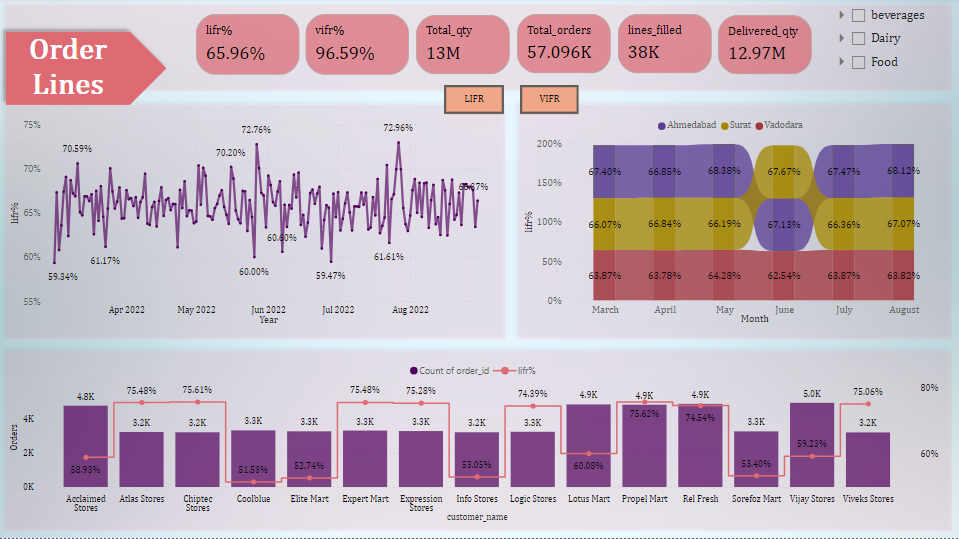

The dashboard page shown, as its layout file describes it:
{"tool":"powerbi","page":{"name":"Page 4","canvas":[1280,720],"ordinal":3},"visuals":[{"type":"shape","box":[0,0,1280,133.3],"z":0},{"type":"shape","box":[684,133.3,596,330.7],"z":1000},{"type":"shape","box":[0,133.3,684,330.7],"z":2000},{"type":"shape","box":[0,461.3,1280,258.7],"z":3000},{"type":"lineChart","fields":{"Category":["dim_date.date.Variation.Date Hierarchy.Year","dim_date.date.Variation.Date Hierarchy.Quarter","dim_date.date.Variation.Date Hierarchy.Month","dim_date.date.Variation.Date Hierarchy.Day"],"Y":["key_measures.lifr%"]},"box":[9.3,154.7,665.3,286.7],"z":4000},{"type":"actionButton","box":[694.9,115.6,78.5,38.5],"z":5000},{"type":"actionButton","box":[593.6,115.6,79.9,38.5],"z":6000},{"type":"lineStackedColumnComboChart","fields":{"Category":["dim_customers.customer_name"],"Y2":["key_measures.lifr%"],"Y":["CountNonNull(fact_order_lines.order_id)"]},"box":[9.3,477.3,1249.3,226.7],"z":7000},{"type":"ribbonChart","fields":{"Category":["dim_date.date.Variation.Date Hierarchy.Month"],"Y":["key_measures.lifr%"],"Series":["dim_customers.city"]},"box":[694.9,151.3,565.1,289.7],"z":10000},{"type":"cardVisual","fields":{"Data":["key_measures.lifr%","key_measures.vifr%"]},"box":[242.6,21.4,325.4,81.3],"z":12000},{"type":"cardVisual","fields":{"Data":["Sum(fact_order_lines.order_qty)"]},"box":[536.5,22.8,165.5,79.9],"z":13000},{"type":"cardVisual","fields":{"Data":["CountNonNull(fact_order_lines.order_qty)"]},"box":[670.7,21.4,165.5,79.9],"z":14000},{"type":"cardVisual","fields":{"Data":["Sum(fact_order_lines.delivery_qty)"]},"box":[939,22.8,165.5,79.9],"z":15000},{"type":"cardVisual","fields":{"Data":["key_measures.lines_filled"]},"box":[804.8,21.4,165.5,79.9],"z":16000},{"type":"slicer","fields":{"Values":["dim_products.category","dim_products.product_name"]},"box":[1104.5,8.6,161.2,124.1],"z":17000},{"type":"shape","box":[0,35.7,232.6,115.6],"z":18000}]}

Visuals, with their boxes in screenshot pixels (x1, y1, x2, y2), scaled from the page's 1280x720 canvas onto the 959x539 screenshot:
shape: l=0, t=0, r=958, b=100
shape: l=512, t=100, r=958, b=347
shape: l=0, t=100, r=512, b=347
shape: l=0, t=345, r=958, b=538
lineChart - dim_date.date.Variation.Date Hierarchy.Year x dim_date.date.Variation.Date Hierarchy.Quarter: l=7, t=116, r=505, b=330
actionButton: l=521, t=87, r=579, b=115
actionButton: l=445, t=87, r=505, b=115
lineStackedColumnComboChart - dim_customers.customer_name x key_measures.lifr%: l=7, t=357, r=943, b=527
ribbonChart - dim_date.date.Variation.Date Hierarchy.Month x key_measures.lifr%: l=521, t=113, r=944, b=330
cardVisual - key_measures.lifr% x key_measures.vifr%: l=182, t=16, r=426, b=77
cardVisual - Sum(fact_order_lines.order_qty): l=402, t=17, r=526, b=77
cardVisual - CountNonNull(fact_order_lines.order_qty): l=503, t=16, r=626, b=76
cardVisual - Sum(fact_order_lines.delivery_qty): l=704, t=17, r=828, b=77
cardVisual - key_measures.lines_filled: l=603, t=16, r=727, b=76
slicer - dim_products.category x dim_products.product_name: l=828, t=6, r=948, b=99
shape: l=0, t=27, r=174, b=113
